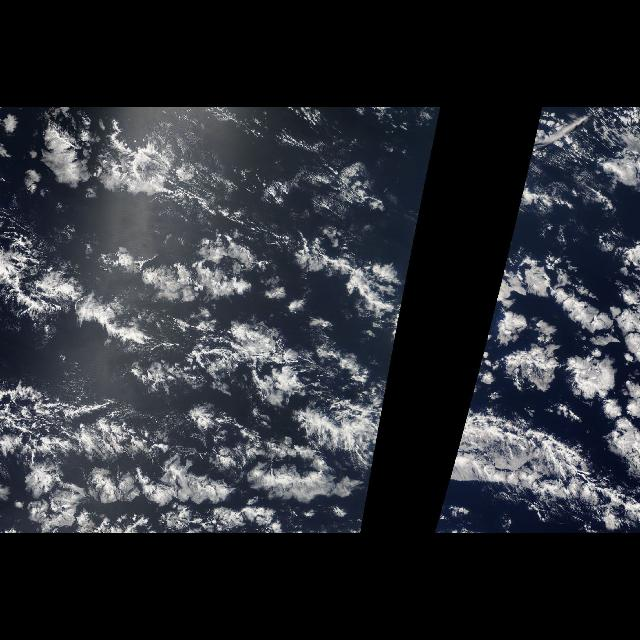Fish: (177, 316, 401, 532), (434, 316, 628, 532)
Flower: (467, 164, 639, 420), (300, 165, 432, 403)
